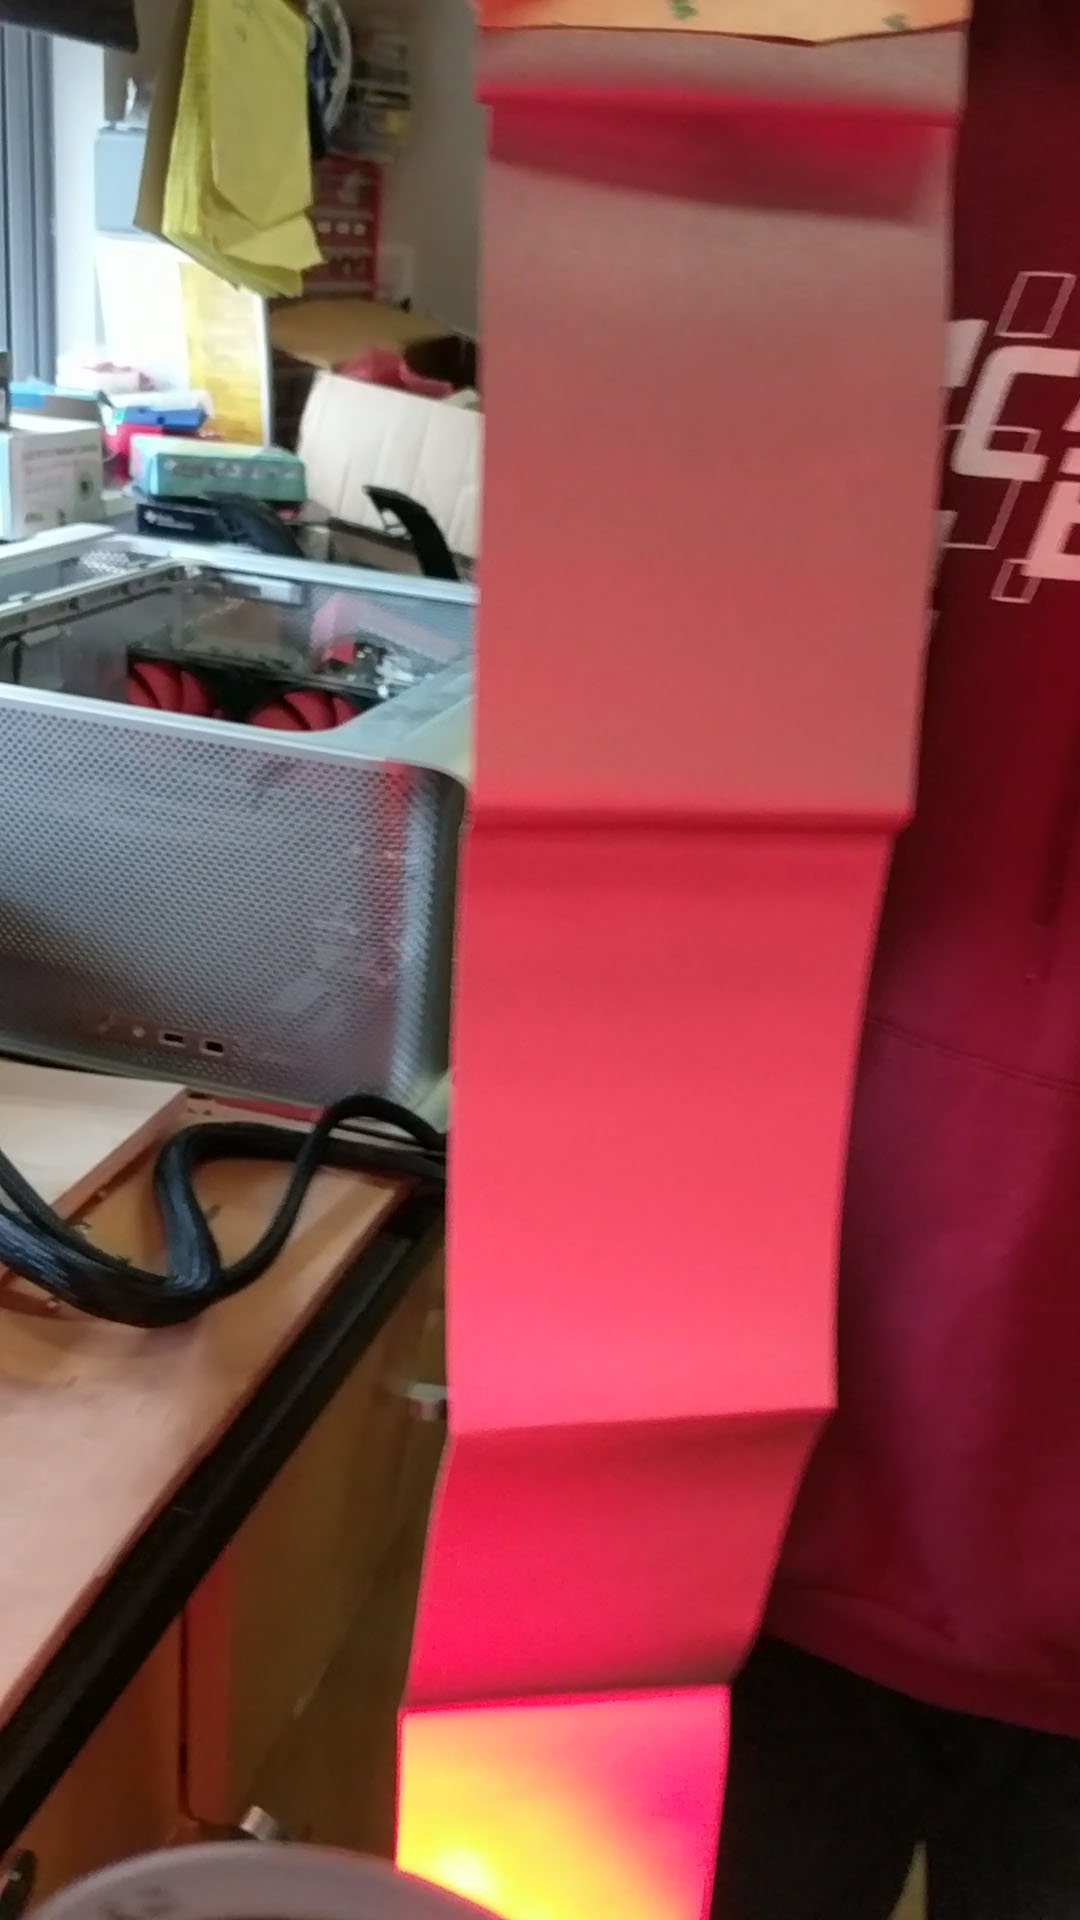gear: (400, 0, 956, 1920)
